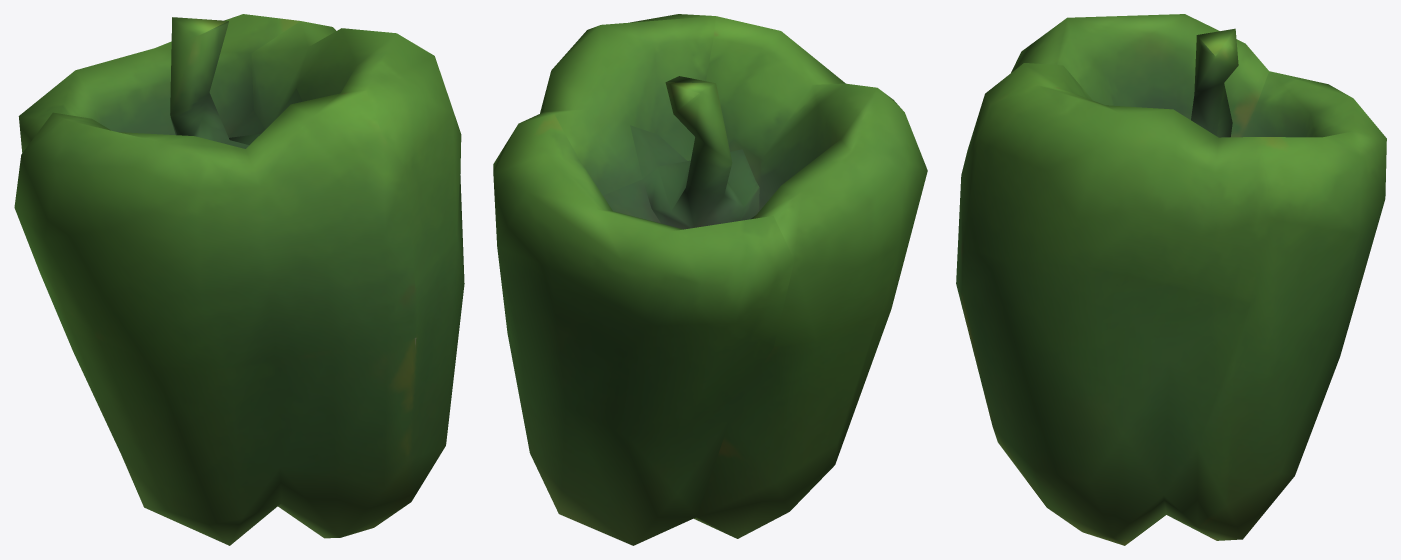
Rendered from SM_Food_SM_Pepper_03.fbx.
3 views of the same model, side by side, from view 1: azimuth 30°, elevation 25°; view 2: azimuth 150°, elevation 25°; view 3: azimuth 270°, elevation 25° (orthographic). The views are drawn at different scales.
Parts seen in each view (by area): view 1: SM_Food_SM_Pepper_03_LOD0; view 2: SM_Food_SM_Pepper_03_LOD0; view 3: SM_Food_SM_Pepper_03_LOD0.
Boxes of the visible parts, x1,y1,x2,y2 form: SM_Food_SM_Pepper_03_LOD0: [14, 14, 464, 545]; SM_Food_SM_Pepper_03_LOD0: [493, 14, 927, 545]; SM_Food_SM_Pepper_03_LOD0: [956, 14, 1386, 545].
Size of the model in its own units: 9.42 by 9.9 by 11.5.
Materials: 1 (1 with a texture image).
